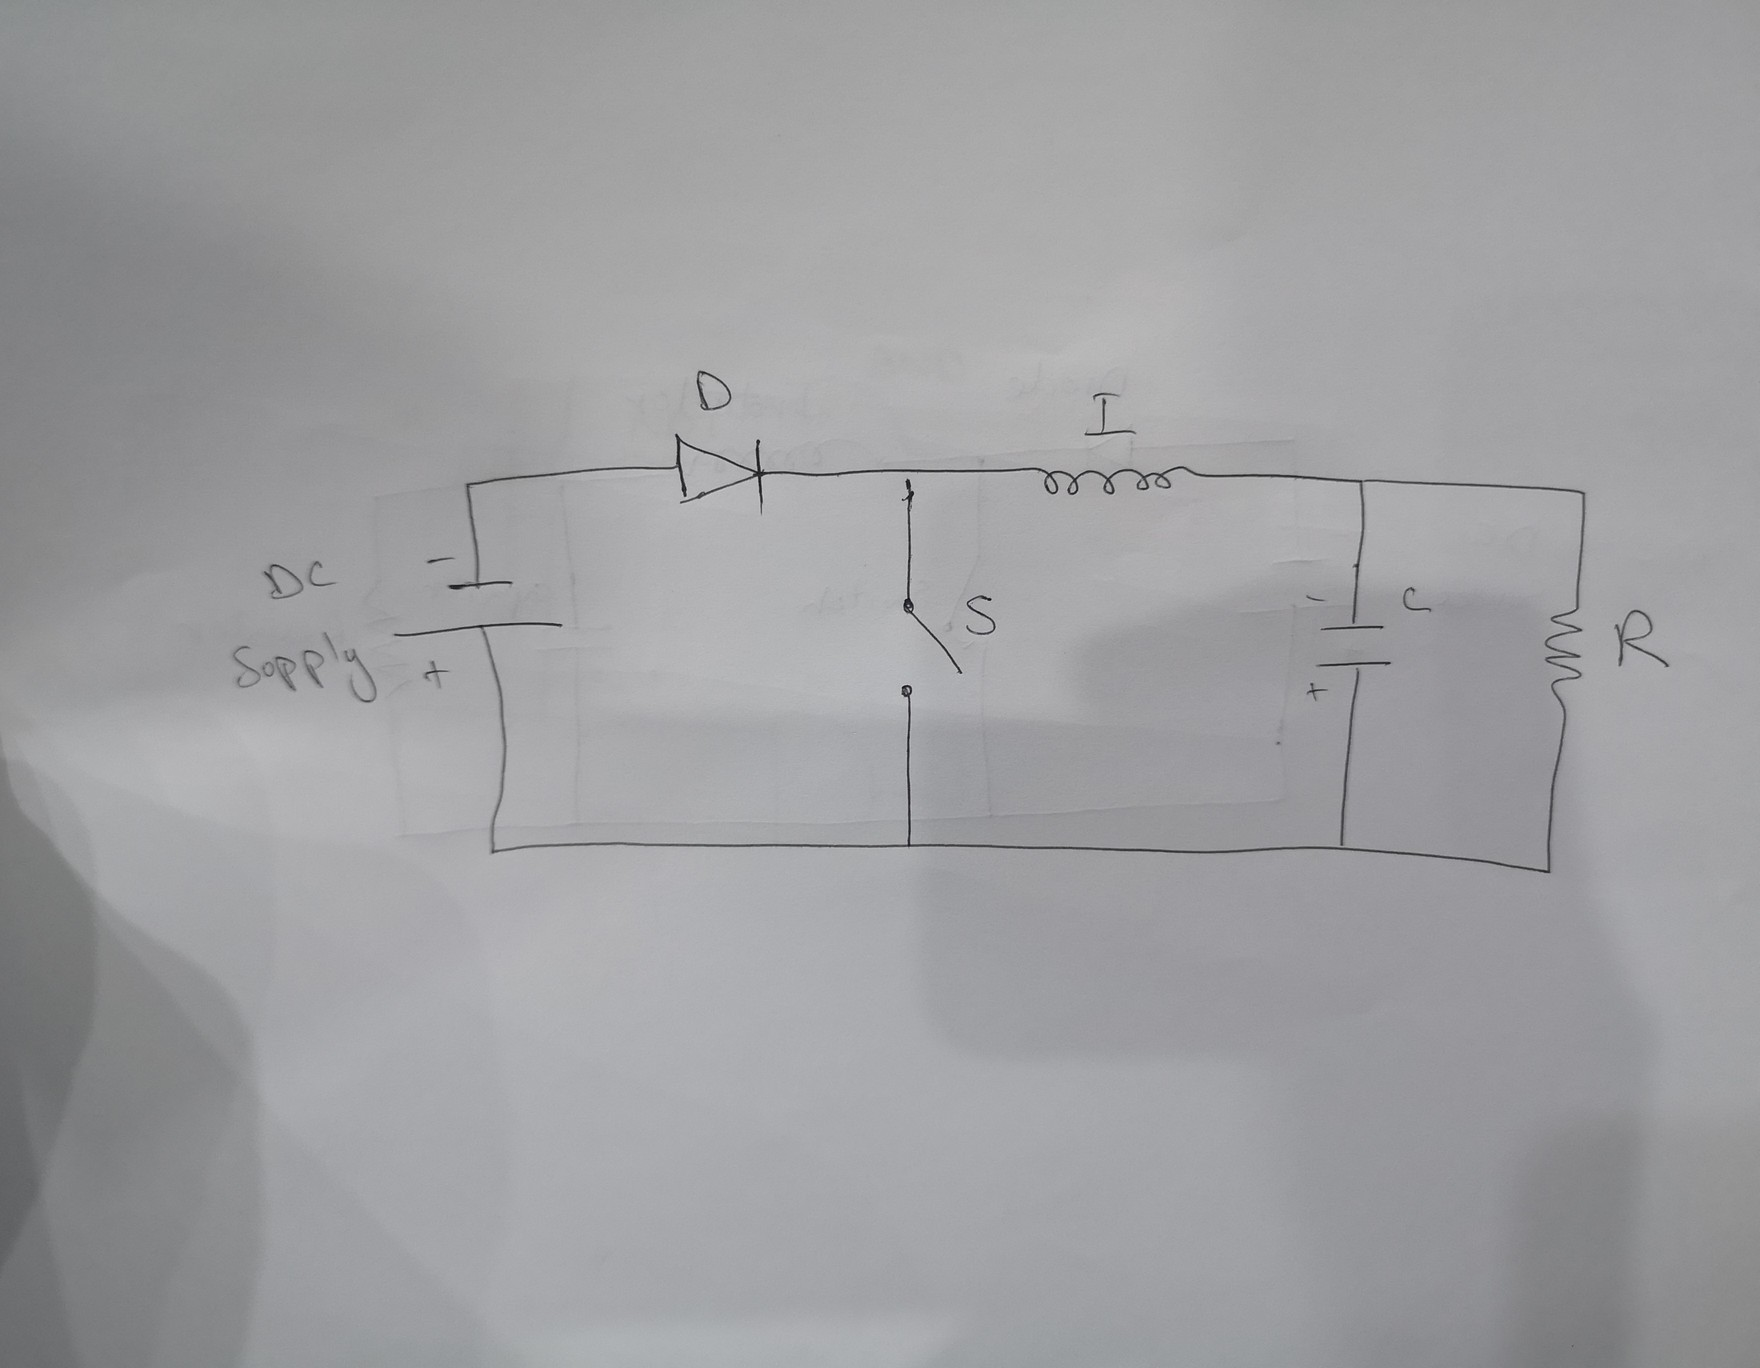capacitor.polarized: (1293, 588, 1400, 707)
diode: (669, 424, 771, 521)
inductor: (1031, 460, 1206, 504)
junction: (1324, 830, 1354, 862), (896, 463, 919, 506), (453, 473, 486, 501), (893, 830, 923, 858), (1349, 471, 1373, 496), (1571, 483, 1594, 506), (1536, 860, 1559, 880), (481, 840, 501, 862)
resistor: (1537, 601, 1593, 715)
switch: (889, 595, 971, 705)
text: (221, 625, 386, 707), (1611, 607, 1671, 674), (256, 555, 341, 600), (1077, 387, 1143, 441), (689, 363, 736, 418), (956, 593, 1001, 640), (1396, 580, 1437, 618)
voltage.dc: (390, 544, 566, 693)
